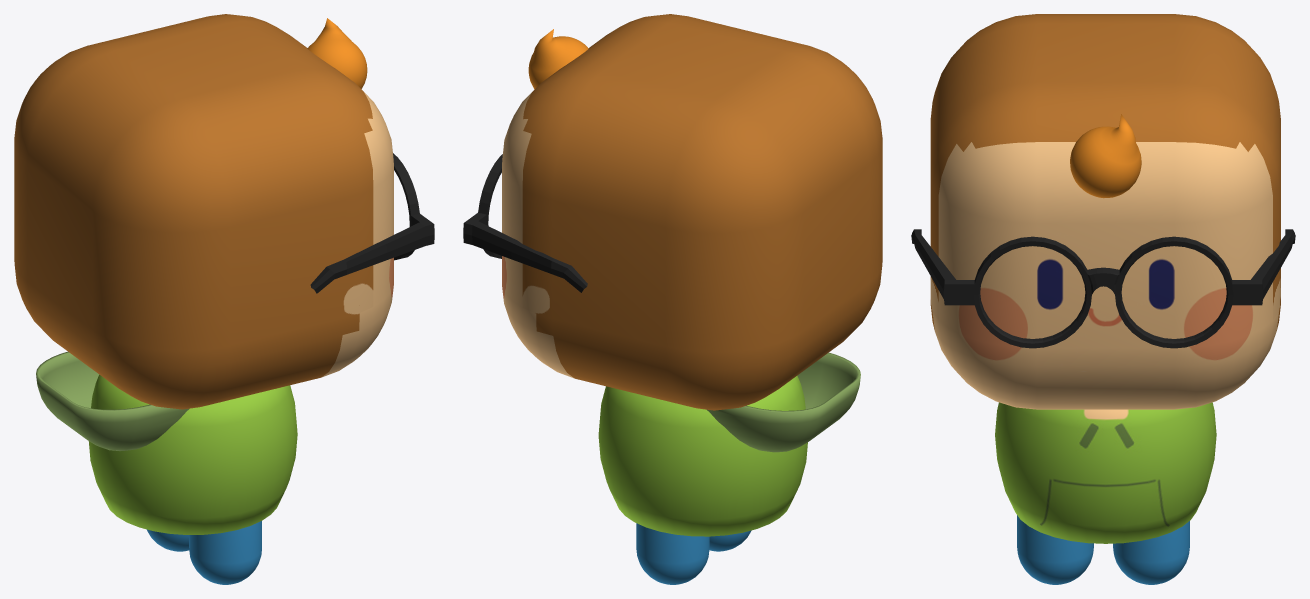
Rendered from AvatarA.fbx.
The picture shows the model from 3 angles, left to right: view 1: azimuth 30°, elevation 25°; view 2: azimuth 150°, elevation 25°; view 3: azimuth 270°, elevation 25°; orthographic projection. The views are drawn at different scales.
Visible parts, largest first — view 1: Cube.004, Cylinder; view 2: Cube.004, Cylinder; view 3: Cube.004, Cylinder.
Part boxes in pixels (left/top/right/bottom): Cube.004: left=14, top=14, right=393, bottom=584; Cylinder: left=310, top=153, right=434, bottom=293; Cube.004: left=502, top=14, right=882, bottom=584; Cylinder: left=463, top=154, right=587, bottom=292; Cube.004: left=930, top=14, right=1280, bottom=584; Cylinder: left=911, top=229, right=1295, bottom=348.
Bounding box in the file's own units: 186 × 295 × 192.
Materials: 2 (1 with a texture image).
